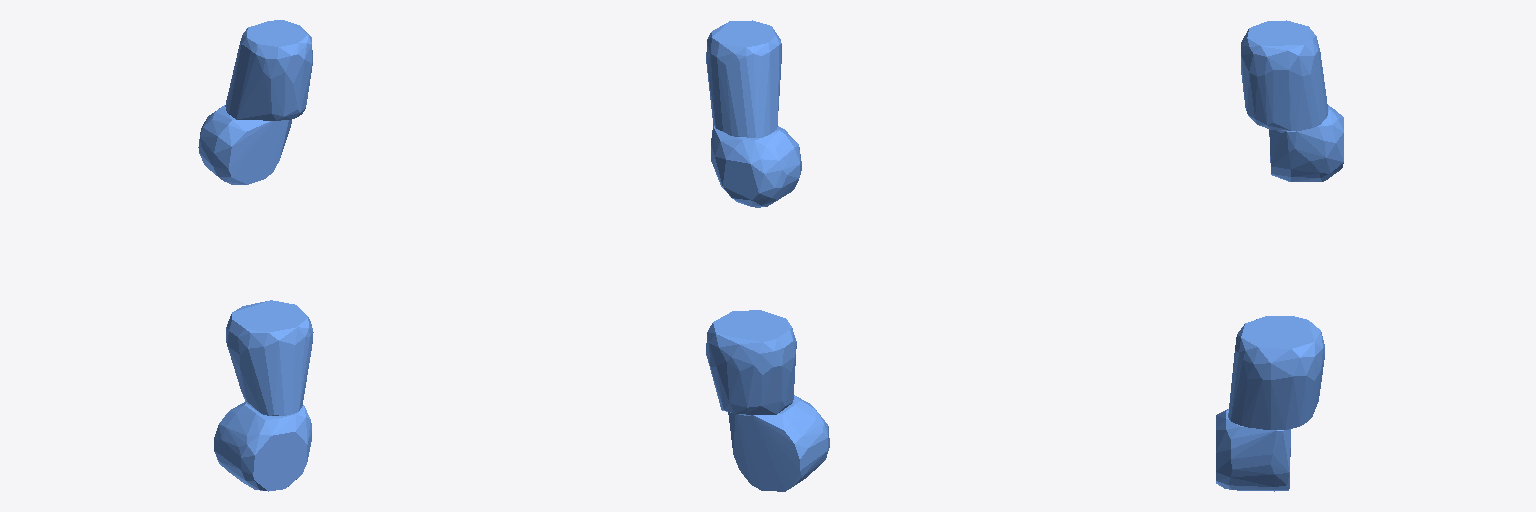
URDF robot description (lbr_iiwa):
<?xml version="1.0" ?>
<!-- ======================================================================= -->
<!-- | This document was autogenerated by xacro from lbr_iiwa.urdf.xacro   | -->
<!-- | Original xacro: https://github.com/rtkg/lbr_iiwa/archive/master.zip | -->
<!-- | EDITING THIS FILE BY HAND IS NOT RECOMMENDED                        | -->
<!-- | Changes ([author]):                                                 | -->
<!-- |   * Removed gazebo tags.                                            | -->
<!-- |   * Removed unused materials.                                       | -->
<!-- |   * Made mesh paths relative.                                       | -->
<!-- |   * Removed material fields from collision segments.                | -->
<!-- |   * Removed the self_collision_checking segment.                    | -->
<!-- |   * Removed transmission segments, since they didn't match the      | -->
<!-- |     convention, will have to added back later.                      | -->
<!-- ======================================================================= -->
<!--LICENSE:                                                                 -->
<!--Copyright (c) 2015, [author] & [author], AASS Research Center,  -->
<!--Orebro University, Sweden                                                -->
<!--All rights reserved.                                                     -->
<!--                                                                         -->
<!--Redistribution and use in source and binary forms, with or without       -->
<!--modification, are permitted provided that the following conditions are   -->
<!--met:                                                                     -->
<!--                                                                         -->
<!--1. Redistributions of source code must retain the above copyright notice,-->
<!--   this list of conditions and the following disclaimer.                 -->
<!--                                                                         -->
<!--2. Redistributions in binary form must reproduce the above copyright     -->
<!--   notice, this list of conditions and the following disclaimer in the   -->
<!--   documentation and/or other materials provided with the distribution.  -->
<!--                                                                         -->
<!--THIS SOFTWARE IS PROVIDED BY THE COPYRIGHT [author] "AS  -->
<!--IS" AND ANY EXPRESS OR IMPLIED WARRANTIES, INCLUDING, BUT NOT LIMITED TO,-->
<!--THE IMPLIED WARRANTIES OF MERCHANTABILITY AND FITNESS FOR A PARTICULAR   -->
<!--PURPOSE ARE DISCLAIMED. IN NO EVENT SHALL THE COPYRIGHT [author]        -->
<!--CONTRIBUTORS BE LIABLE FOR ANY DIRECT, INDIRECT, INCIDENTAL, SPECIAL,    -->
<!--EXEMPLARY, OR CONSEQUENTIAL DAMAGES (INCLUDING, BUT NOT LIMITED TO,      -->
<!--PROCUREMENT OF SUBSTITUTE GOODS OR SERVICES; LOSS OF USE, DATA, OR       -->
<!--PROFITS; OR BUSINESS INTERRUPTION) HOWEVER CAUSED AND ON ANY THEORY OF   -->
<!--LIABILITY, WHETHER IN CONTRACT, STRICT LIABILITY, OR TORT (INCLUDING     -->
<!--NEGLIGENCE OR OTHERWISE) ARISING IN ANY WAY OUT OF THE USE OF THIS       -->
<!--SOFTWARE, EVEN IF ADVISED OF THE POSSIBILITY OF SUCH DAMAGE.             -->
<robot name="lbr_iiwa" xmlns:xacro="http://www.ros.org/wiki/xacro">
  <!-- Import Rviz colors -->
  <material name="Grey">
    <color rgba="0.2 0.2 0.2 1.0"/>
  </material>
  <material name="Orange">
    <color rgba="1.0 0.423529411765 0.0392156862745 1.0"/>
  </material>
  <material name="Blue">
  <color rgba="0.5 0.7 1.0 1.0"/>      
</material>

  <!--Import the lbr iiwa macro -->
  <!--Import Transmissions -->
  <!--Include Utilities -->
  <!--The following macros are adapted from the LWR 4 definitions of the RCPRG - https://github.com/RCPRG-ros-pkg/lwr_robot -->
  <!--Little helper macros to define the inertia matrix needed for links.-->
  <!--Cuboid-->
  <!--Cylinder: length is along the y-axis! -->
  <!--lbr-->
  <link name="lbr_iiwa_link_0">
    <inertial>
      <origin rpy="0 0 0" xyz="-0.1 0 0.07"/>
      <!--Increase mass from 5 Kg original to provide a stable base to carry the
          arm.-->
      <mass value="0.1"/>
      <inertia ixx="0.05" ixy="0" ixz="0" iyy="0.06" iyz="0" izz="0.03"/>
    </inertial>
    <visual>
      <origin rpy="0 0 0" xyz="0 0 0"/>
      <geometry>
        <mesh filename="meshes/link_0.obj"/>
      </geometry>
      <material name="Grey"/>
    </visual>
    <collision>
      <origin rpy="0 0 0" xyz="0 0 0"/>
      <geometry>
        <mesh filename="meshes/link_0.stl"/>
      </geometry>
    </collision>
  </link>
  <!-- joint between link_0 and link_1 -->
  <joint name="lbr_iiwa_joint_1" type="revolute">
    <parent link="lbr_iiwa_link_0"/>
    <child link="lbr_iiwa_link_1"/>
    <origin rpy="0 0 0" xyz="0 0 0.1575"/>
    <axis xyz="0 0 1"/>
    <limit effort="300" lower="-2.96705972839" upper="2.96705972839" velocity="10"/>
    <dynamics damping="0.5"/>
  </joint>
  <link name="lbr_iiwa_link_1">
    <inertial>
      <origin rpy="0 0 0" xyz="0 -0.03 0.12"/>
      <mass value="4"/>
      <inertia ixx="0.1" ixy="0" ixz="0" iyy="0.09" iyz="0" izz="0.02"/>
    </inertial>
    <visual>
      <origin rpy="0 0 0" xyz="0 0 0"/>
      <geometry>
        <mesh filename="meshes/link_1.obj"/>
      </geometry>
      <material name="Blue"/>
    </visual>
    <collision>
      <origin rpy="0 0 0" xyz="0 0 0"/>
      <geometry>
        <mesh filename="meshes/link_1.stl"/>
      </geometry>
    </collision>
  </link>
  <!-- joint between link_1 and link_2 -->
  <joint name="lbr_iiwa_joint_2" type="revolute">
    <parent link="lbr_iiwa_link_1"/>
    <child link="lbr_iiwa_link_2"/>
    <origin rpy="1.57079632679   0 3.14159265359" xyz="0 0 0.2025"/>
    <axis xyz="0 0 1"/>
    <limit effort="300" lower="-2.09439510239" upper="2.09439510239" velocity="10"/>
    <dynamics damping="0.5"/>
  </joint>
  <link name="lbr_iiwa_link_2">
    <inertial>
      <origin rpy="0 0 0" xyz="0.0003 0.059 0.042"/>
      <mass value="4"/>
      <inertia ixx="0.05" ixy="0" ixz="0" iyy="0.018" iyz="0" izz="0.044"/>
    </inertial>
    <visual>
      <origin rpy="0 0 0" xyz="0 0 0"/>
      <geometry>
        <mesh filename="meshes/link_2.obj"/>
      </geometry>
      <material name="Blue"/>
    </visual>
    <collision>
      <origin rpy="0 0 0" xyz="0 0 0"/>
      <geometry>
        <mesh filename="meshes/link_2.stl"/>
      </geometry>
    </collision>
  </link>
  <!-- joint between link_2 and link_3 -->
  <joint name="lbr_iiwa_joint_3" type="revolute">
    <parent link="lbr_iiwa_link_2"/>
    <child link="lbr_iiwa_link_3"/>
    <origin rpy="1.57079632679 0 3.14159265359" xyz="0 0.2045 0"/>
    <axis xyz="0 0 1"/>
    <limit effort="300" lower="-2.96705972839" upper="2.96705972839" velocity="10"/>
    <dynamics damping="0.5"/>
  </joint>
  <link name="lbr_iiwa_link_3">
    <inertial>
      <origin rpy="0 0 0" xyz="0 0.03 0.13"/>
      <mass value="3"/>
      <inertia ixx="0.08" ixy="0" ixz="0" iyy="0.075" iyz="0" izz="0.01"/>
    </inertial>
    <visual>
      <origin rpy="0 0 0" xyz="0 0 0"/>
      <geometry>
        <mesh filename="meshes/link_3.obj"/>
      </geometry>
      <material name="Orange"/>
    </visual>
    <collision>
      <origin rpy="0 0 0" xyz="0 0 0"/>
      <geometry>
        <mesh filename="meshes/link_3.stl"/>
      </geometry>
    </collision>
  </link>
  <!-- joint between link_3 and link_4 -->
  <joint name="lbr_iiwa_joint_4" type="revolute">
    <parent link="lbr_iiwa_link_3"/>
    <child link="lbr_iiwa_link_4"/>
    <origin rpy="1.57079632679 0 0" xyz="0 0 0.2155"/>
    <axis xyz="0 0 1"/>
    <limit effort="300" lower="-2.09439510239" upper="2.09439510239" velocity="10"/>
    <dynamics damping="0.5"/>
  </joint>
  <link name="lbr_iiwa_link_4">
    <inertial>
      <origin rpy="0 0 0" xyz="0 0.067 0.034"/>
      <mass value="2.7"/>
      <inertia ixx="0.03" ixy="0" ixz="0" iyy="0.01" iyz="0" izz="0.029"/>
    </inertial>
    <visual>
      <origin rpy="0 0 0" xyz="0 0 0"/>
      <geometry>
        <mesh filename="meshes/link_4.obj"/>
      </geometry>
      <material name="Blue"/>
    </visual>
    <collision>
      <origin rpy="0 0 0" xyz="0 0 0"/>
      <geometry>
        <mesh filename="meshes/link_4.stl"/>
      </geometry>
    </collision>
  </link>
  <!-- joint between link_4 and link_5 -->
  <joint name="lbr_iiwa_joint_5" type="revolute">
    <parent link="lbr_iiwa_link_4"/>
    <child link="lbr_iiwa_link_5"/>
    <origin rpy="-1.57079632679 3.14159265359 0" xyz="0 0.1845 0"/>
    <axis xyz="0 0 1"/>
    <limit effort="300" lower="-2.96705972839" upper="2.96705972839" velocity="10"/>
    <dynamics damping="0.5"/>
  </joint>
  <link name="lbr_iiwa_link_5">
    <inertial>
      <origin rpy="0 0 0" xyz="0.0001 0.021 0.076"/>
      <mass value="1.7"/>
      <inertia ixx="0.02" ixy="0" ixz="0" iyy="0.018" iyz="0" izz="0.005"/>
    </inertial>
    <visual>
      <origin rpy="0 0 0" xyz="0 0 0"/>
      <geometry>
        <mesh filename="meshes/link_5.obj"/>
      </geometry>
      <material name="Blue"/>
    </visual>
    <collision>
      <origin rpy="0 0 0" xyz="0 0 0"/>
      <geometry>
        <mesh filename="meshes/link_5.stl"/>
      </geometry>
    </collision>
  </link>
  <!-- joint between link_5 and link_6 -->
  <joint name="lbr_iiwa_joint_6" type="revolute">
    <parent link="lbr_iiwa_link_5"/>
    <child link="lbr_iiwa_link_6"/>
    <origin rpy="1.57079632679 0 0" xyz="0 0 0.2155"/>
    <axis xyz="0 0 1"/>
    <limit effort="300" lower="-2.09439510239" upper="2.09439510239" velocity="10"/>
    <dynamics damping="0.5"/>
  </joint>
  <link name="lbr_iiwa_link_6">
    <inertial>
      <origin rpy="0 0 0" xyz="0 0.0006 0.0004"/>
      <mass value="1.8"/>
      <inertia ixx="0.005" ixy="0" ixz="0" iyy="0.0036" iyz="0" izz="0.0047"/>
    </inertial>
    <visual>
      <origin rpy="0 0 0" xyz="0 0 0"/>
      <geometry>
        <mesh filename="meshes/link_6.obj"/>
      </geometry>
      <material name="Orange"/>
    </visual>
    <collision>
      <origin rpy="0 0 0" xyz="0 0 0"/>
      <geometry>
        <mesh filename="meshes/link_6.stl"/>
      </geometry>
    </collision>
  </link>
  <!-- joint between link_6 and link_7 -->
  <joint name="lbr_iiwa_joint_7" type="revolute">
    <parent link="lbr_iiwa_link_6"/>
    <child link="lbr_iiwa_link_7"/>
    <origin rpy="-1.57079632679 3.14159265359 0" xyz="0 0.081 0"/>
    <axis xyz="0 0 1"/>
    <limit effort="300" lower="-3.05432619099" upper="3.05432619099" velocity="10"/>
    <dynamics damping="0.5"/>
  </joint>
  <link name="lbr_iiwa_link_7">
    <inertial>
      <origin rpy="0 0 0" xyz="0 0 0.02"/>
      <mass value="0.3"/>
      <inertia ixx="0.001" ixy="0" ixz="0" iyy="0.001" iyz="0" izz="0.001"/>
    </inertial>
    <visual>
      <origin rpy="0 0 0" xyz="0 0 0"/>
      <geometry>
        <mesh filename="meshes/link_7.obj"/>
      </geometry>
      <material name="Grey"/>
    </visual>
    <collision>
      <origin rpy="0 0 0" xyz="0 0 0"/>
      <geometry>
        <mesh filename="meshes/link_7.stl"/>
      </geometry>
    </collision>
  </link>
  
</robot>


--- Facts derived from the render (not from the file) ---
Views: 3 orthographic renders of the robot side by side, from view 1: azimuth 30°, elevation 25°; view 2: azimuth 150°, elevation 25°; view 3: azimuth 270°, elevation 25°.
Model lbr_iiwa with 8 links and 7 joints (7 revolute), rooted at lbr_iiwa_link_0, posed every joint at zero.
Visible links, largest first — view 1: lbr_iiwa_link_2, lbr_iiwa_link_4; view 2: lbr_iiwa_link_2, lbr_iiwa_link_4; view 3: lbr_iiwa_link_2, lbr_iiwa_link_4.
Boxes of the visible links, left/top/right/bottom form: lbr_iiwa_link_2: left=214, top=300, right=313, bottom=491; lbr_iiwa_link_4: left=198, top=20, right=312, bottom=184; lbr_iiwa_link_2: left=706, top=310, right=829, bottom=491; lbr_iiwa_link_4: left=706, top=20, right=801, bottom=207; lbr_iiwa_link_2: left=1216, top=316, right=1324, bottom=491; lbr_iiwa_link_4: left=1241, top=20, right=1343, bottom=181.
Bounding box of the posed robot: 0.137 × 0.1587 × 0.6354 m (x, y, z).
Meshes: 8 distinct files referenced, 2 mesh visuals loaded (2 OBJ); not drawn: 6 (reference not matched to a file when rendering).